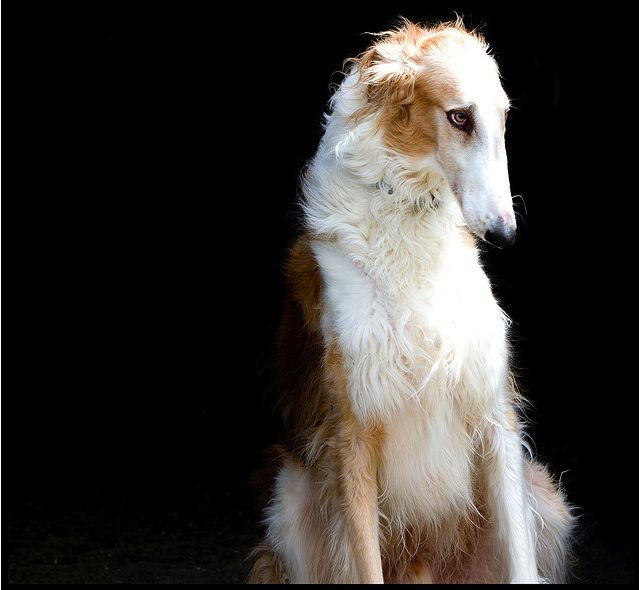borzoi: (241, 22, 565, 587)
